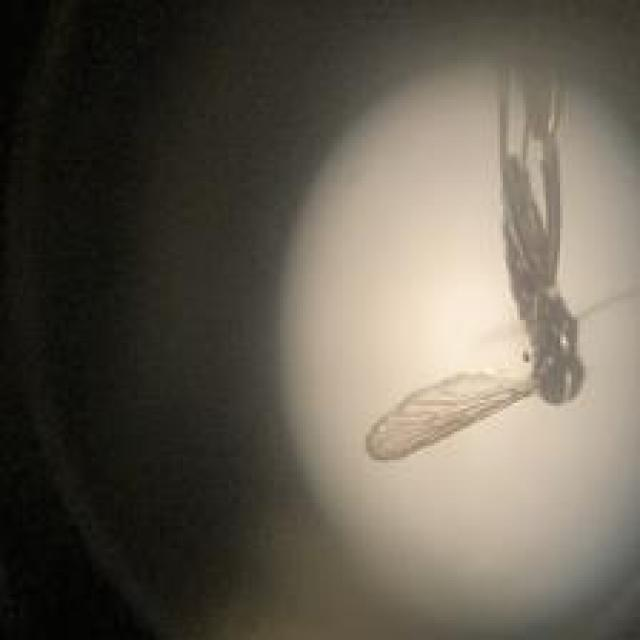Aedes albopictus: (363, 57, 640, 463)
